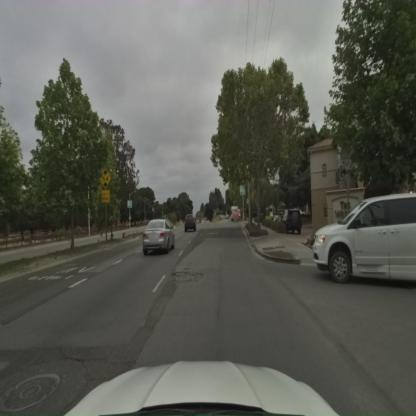car: (311, 192, 415, 288), (141, 219, 176, 256), (184, 215, 198, 232)
